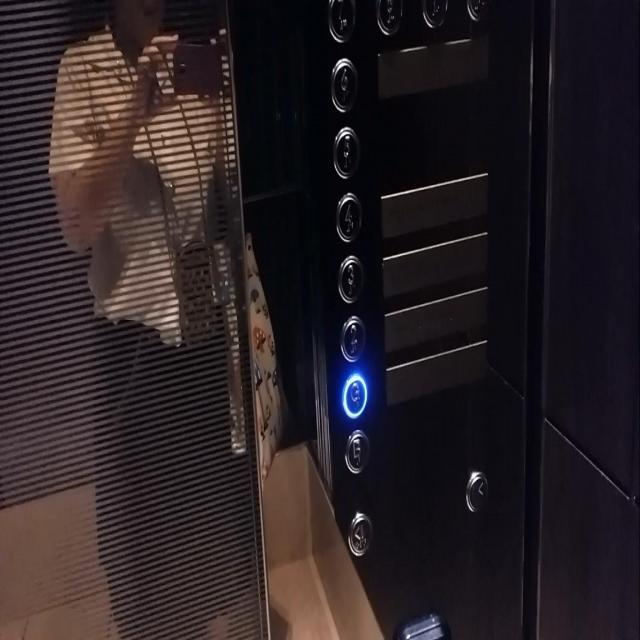2: (338, 312, 366, 365)
3: (336, 252, 366, 306)
4: (334, 190, 364, 244)
5: (331, 123, 362, 180)
6: (328, 56, 360, 114)
B: (343, 426, 370, 476)
G: (341, 371, 368, 421)
blur: (326, 0, 357, 44)
close: (463, 468, 489, 518)
open: (346, 508, 372, 558)
